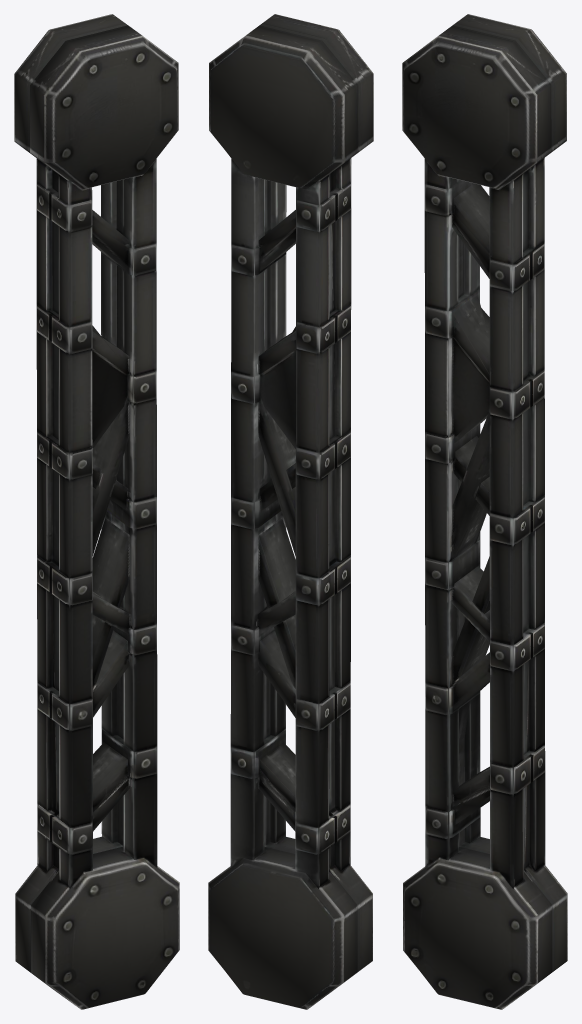
File: cold-iron-v2-rod-c-lattice.glb
3 views of the same model, side by side, from view 1: azimuth 30°, elevation 25°; view 2: azimuth 150°, elevation 25°; view 3: azimuth 330°, elevation 25° (orthographic).
Parts seen in each view (by area): view 1: tripo_node_e626ba32-1b9a-4545-87b7-e5251e600d4f; view 2: tripo_node_e626ba32-1b9a-4545-87b7-e5251e600d4f; view 3: tripo_node_e626ba32-1b9a-4545-87b7-e5251e600d4f.
Boxes of the visible parts, x1=… form: tripo_node_e626ba32-1b9a-4545-87b7-e5251e600d4f: x1=14, y1=14, x2=179, y2=1009; tripo_node_e626ba32-1b9a-4545-87b7-e5251e600d4f: x1=208, y1=14, x2=373, y2=1009; tripo_node_e626ba32-1b9a-4545-87b7-e5251e600d4f: x1=402, y1=14, x2=567, y2=1009.
Size of the model in its own units: 0.1479 by 0.9981 by 0.0771.
Materials: 1 (1 with a texture image).
